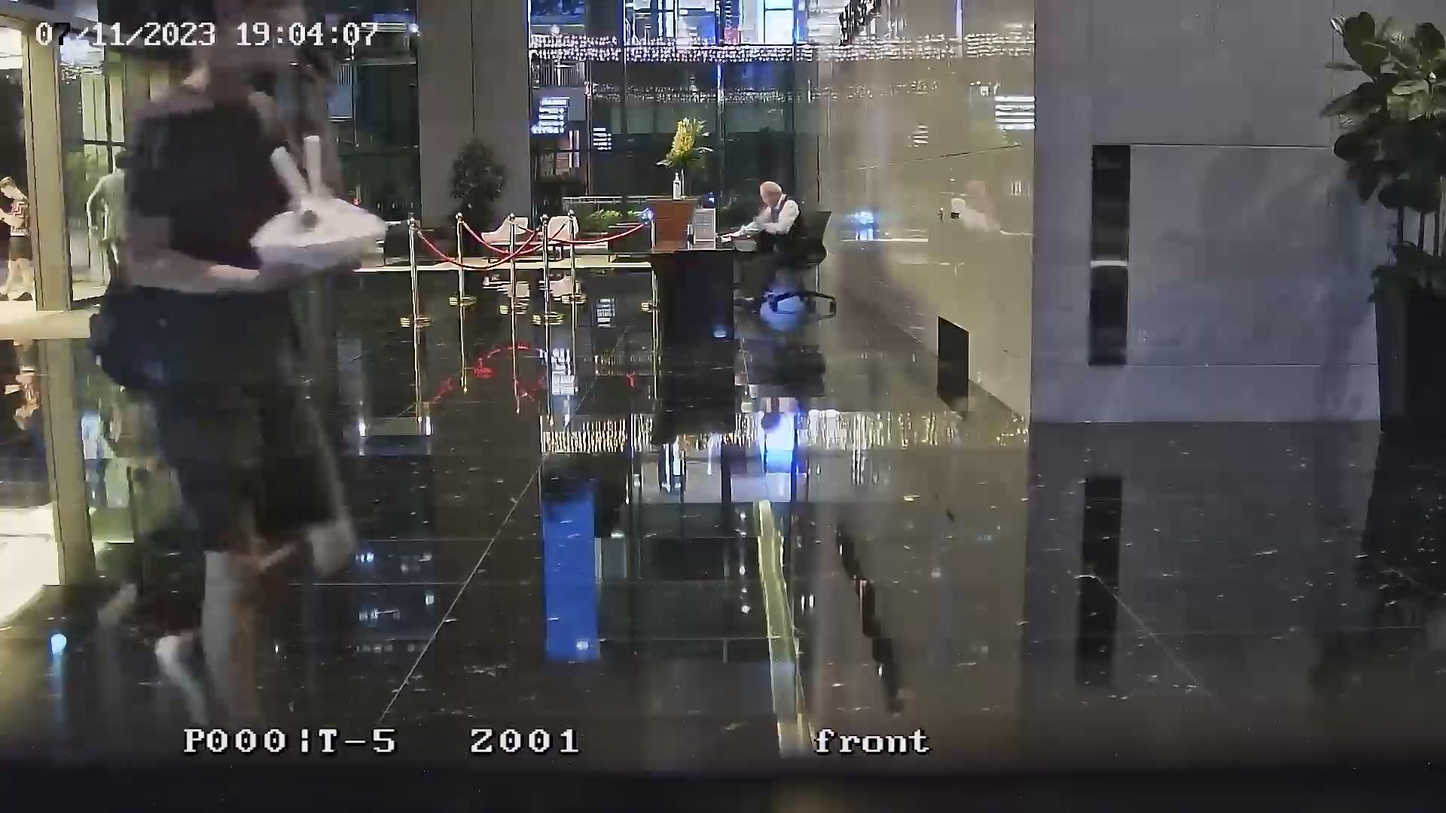person: (120, 47, 358, 749), (733, 180, 800, 303), (88, 147, 128, 275), (0, 175, 36, 302)
